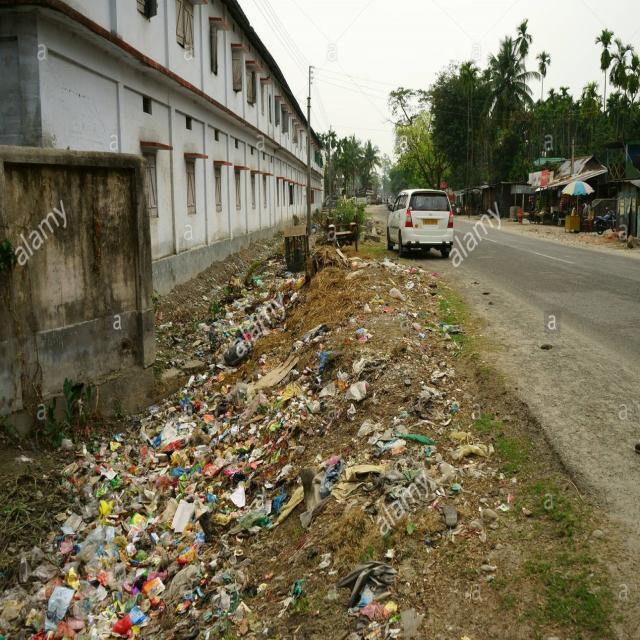garbage: (0, 194, 491, 639)
